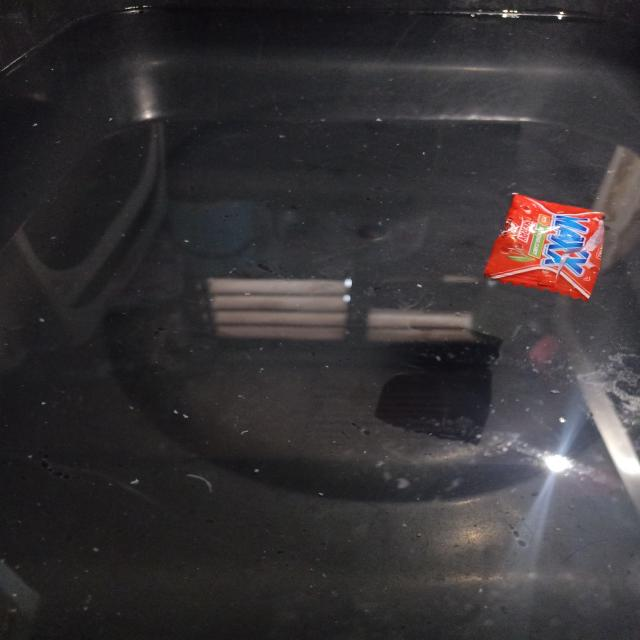Plastic Wrapper: (484, 194, 605, 300)
